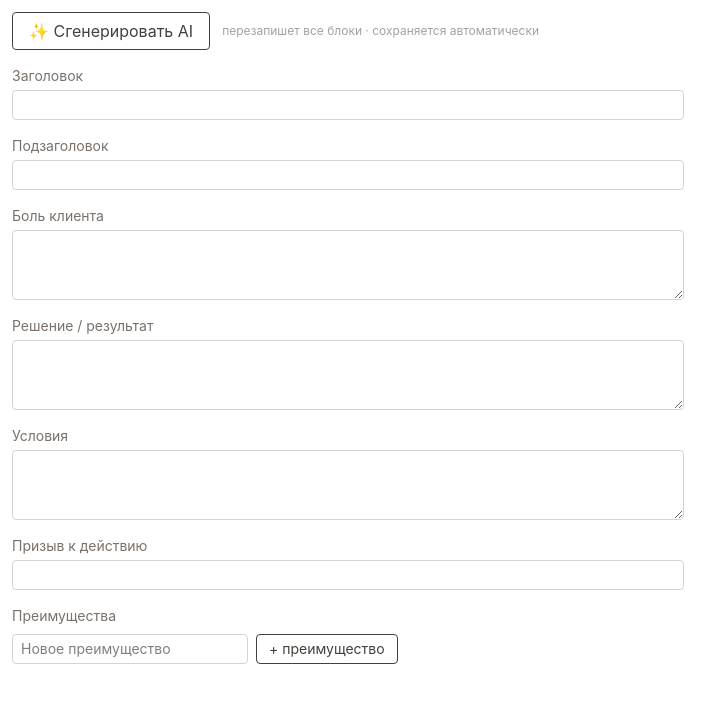
Test: ProposalTab › generates blocks via AI and shows them
What coordinates should you click on to do the following:
click the button "✨ Сгенерировать AI"
I would click on:
 (111, 31)
Its box is [12,12,210,50].
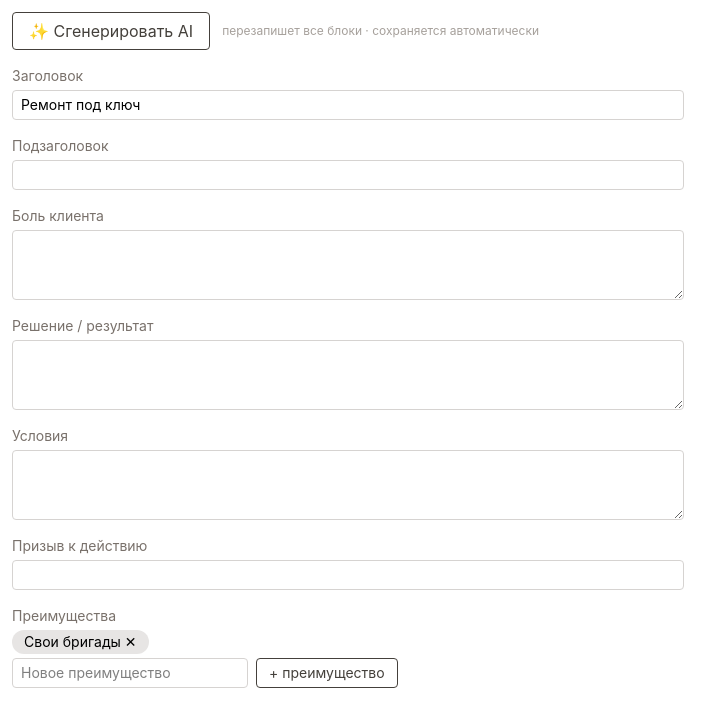
Expected: the field showing "Ремонт под ключ" is shown, [12,90,684,120]
Expected: the text "Свои бригады" is shown, [24,633,121,650]
